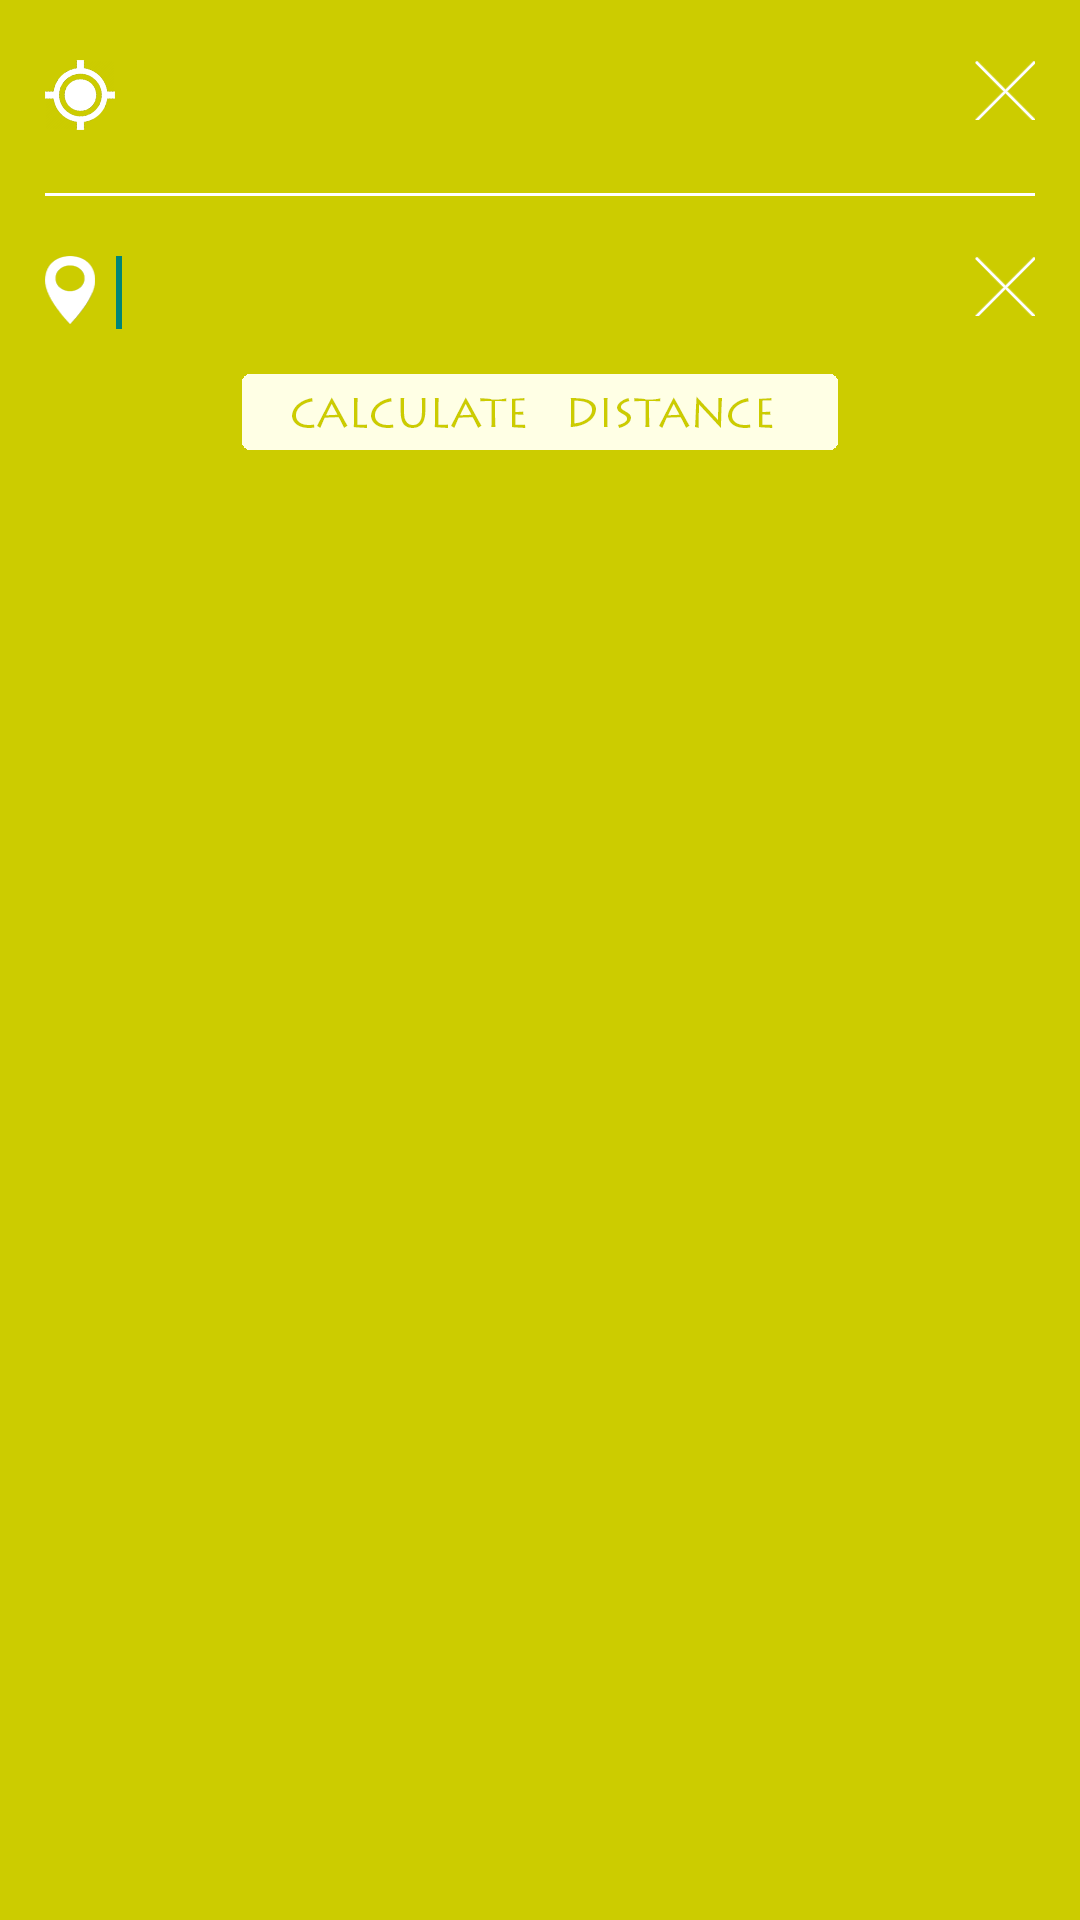

Icons on this 1080px x 1920px Android screen, each with the point to tap as (x,y):
cross: (1005,90), (1005,286)
